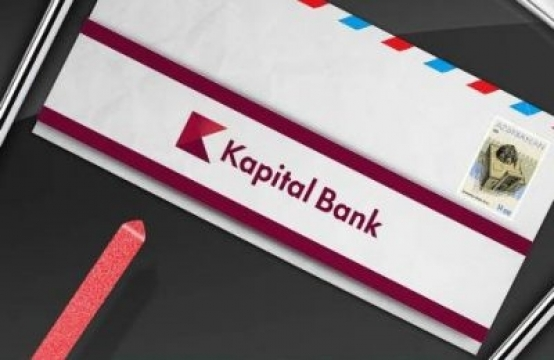Kapital Bank: (172, 109, 227, 164)
